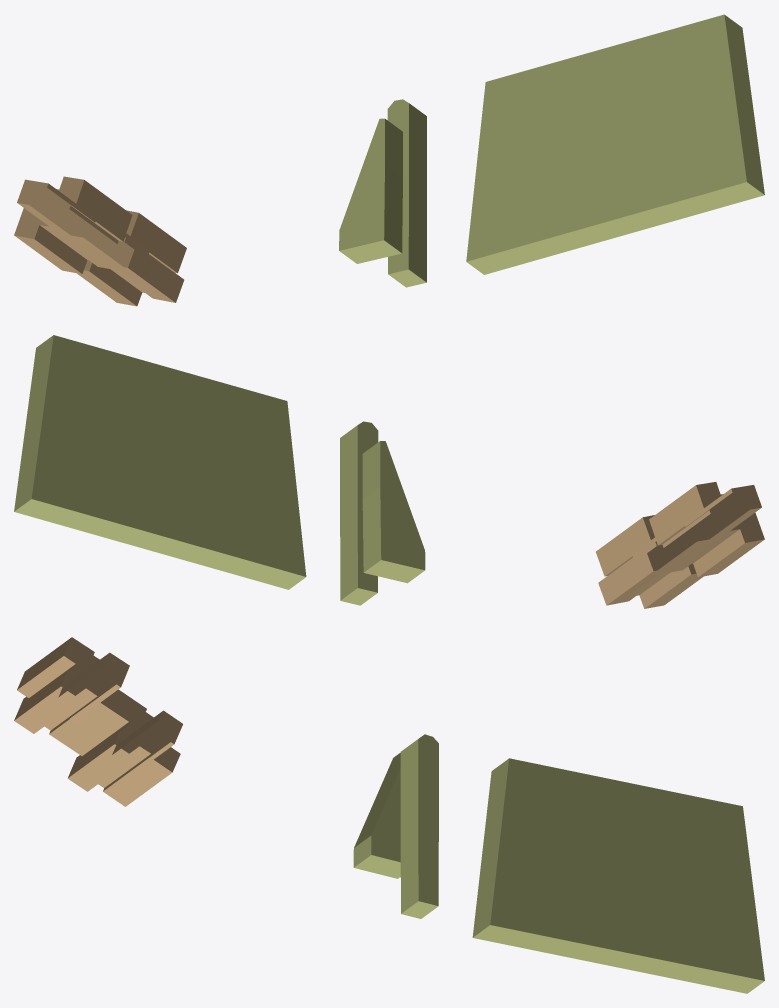
3 views of the same model, one above another, from view 1: azimuth 30°, elevation 25°; view 2: azimuth 150°, elevation 25°; view 3: azimuth 330°, elevation 25° (orthographic). The views are drawn at different scales.
Parts seen in each view (by area): view 1: 0_0_3_1_3_2_1; view 2: 0_0_3_1_3_2_1; view 3: 0_0_3_1_3_2_1.
Boxes of the visible parts, x1,y1,x2,y2 form: 0_0_3_1_3_2_1: (14,14,764,306); 0_0_3_1_3_2_1: (14,335,764,608); 0_0_3_1_3_2_1: (14,637,764,993).
Size of the model in its own units: 209 by 50.76 by 24.
